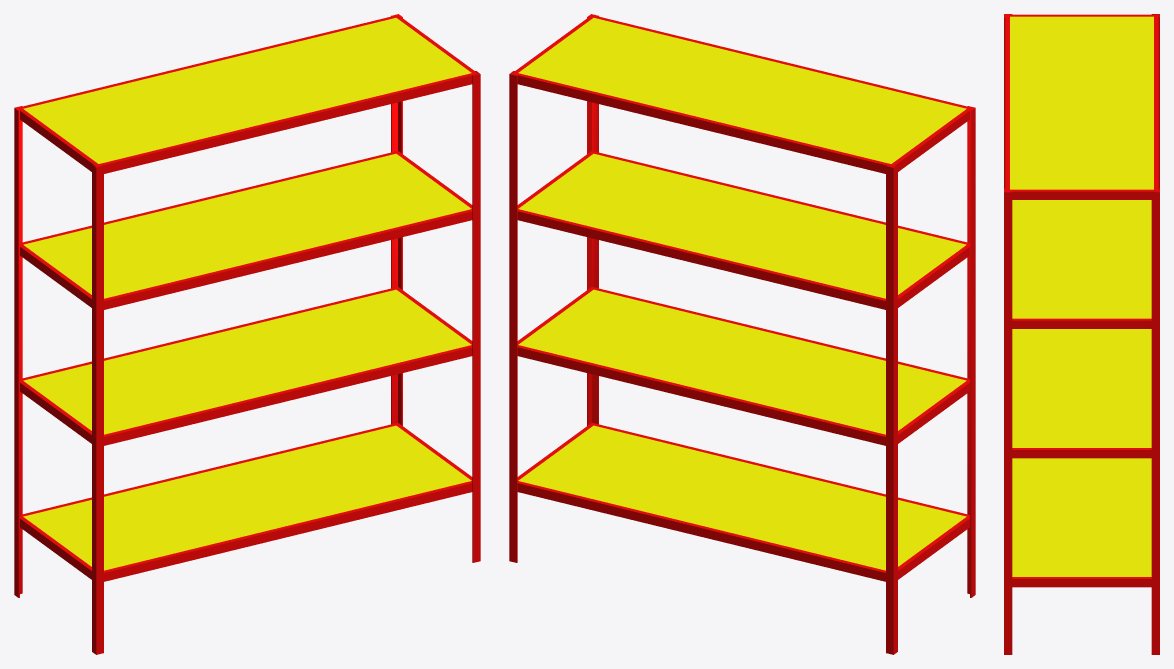
The model's file is Shelves.fbx.
The picture shows the model from 3 angles, left to right: view 1: azimuth 30°, elevation 25°; view 2: azimuth 150°, elevation 25°; view 3: azimuth 270°, elevation 25°; orthographic projection. The views are drawn at different scales.
Parts seen in each view (by area): view 1: Shelves; view 2: Shelves; view 3: Shelves.
Boxes of the visible parts, x1,y1,x2,y2 form: Shelves: (14,14,480,654); Shelves: (509,14,975,654); Shelves: (1004,14,1159,654).
Size of the model in its own units: 90.85 by 110 by 33.6.
